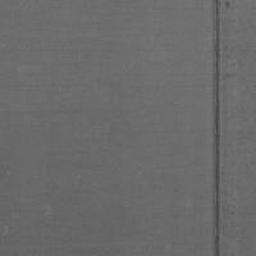Welding line: (210, 0, 221, 256)
